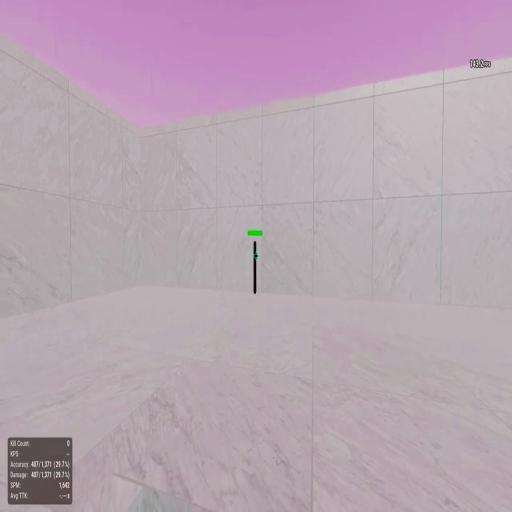Crosshair: (254, 252, 258, 260)
Target: (253, 242, 257, 294)
